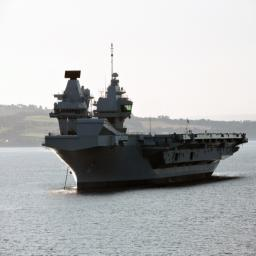Portanaves: (39, 44, 252, 196)
